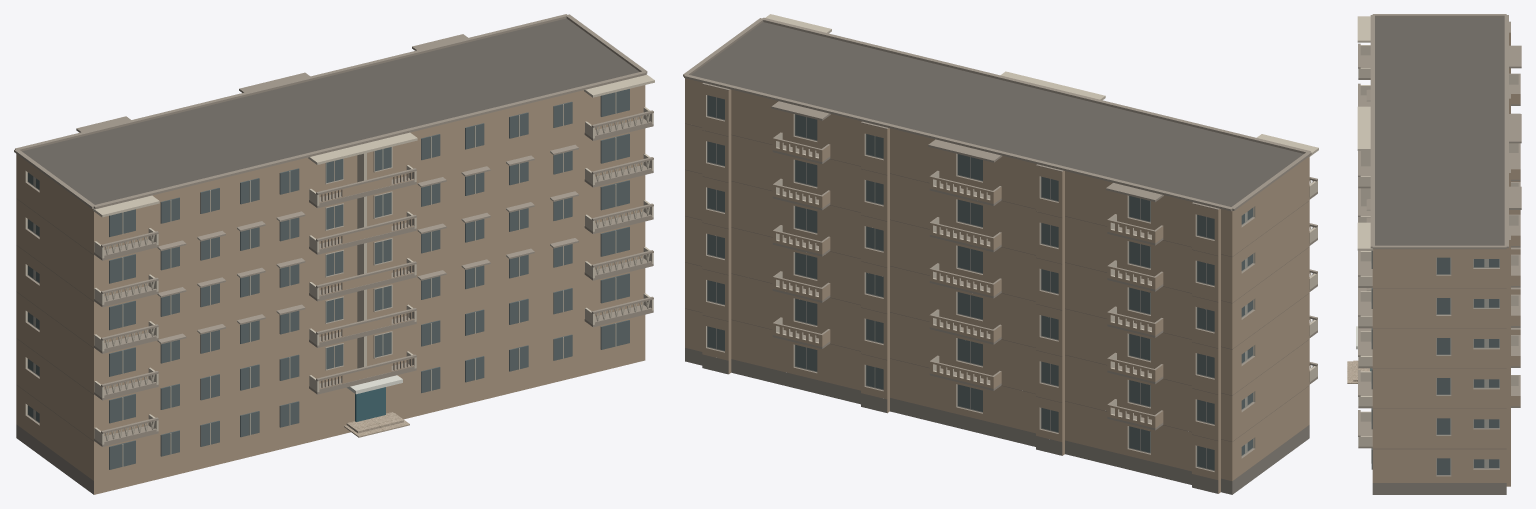
Rendered from chunk-dorm-way-759147053.glb.
The picture shows the model from 3 angles, left to right: view 1: azimuth 30°, elevation 25°; view 2: azimuth 150°, elevation 25°; view 3: azimuth 270°, elevation 25°; orthographic projection. The views are drawn at different scales.
Visible parts, largest first — view 1: chunk-dorm-way-759147053; view 2: chunk-dorm-way-759147053; view 3: chunk-dorm-way-759147053.
Boxes of the visible parts, <box> form: chunk-dorm-way-759147053: <box>14,14,654,494</box>; chunk-dorm-way-759147053: <box>683,14,1318,494</box>; chunk-dorm-way-759147053: <box>1347,14,1521,494</box>.
Bounding box in the file's own units: 41.19 × 20.45 × 13.01.
11 materials, 1 textured.
